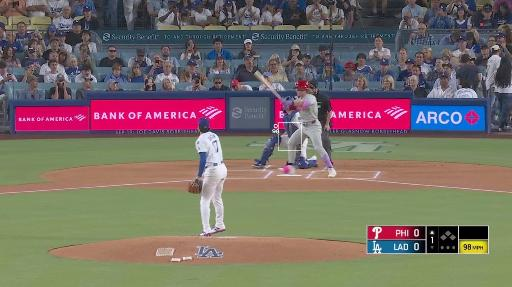pitcher: (188, 118, 229, 237)
